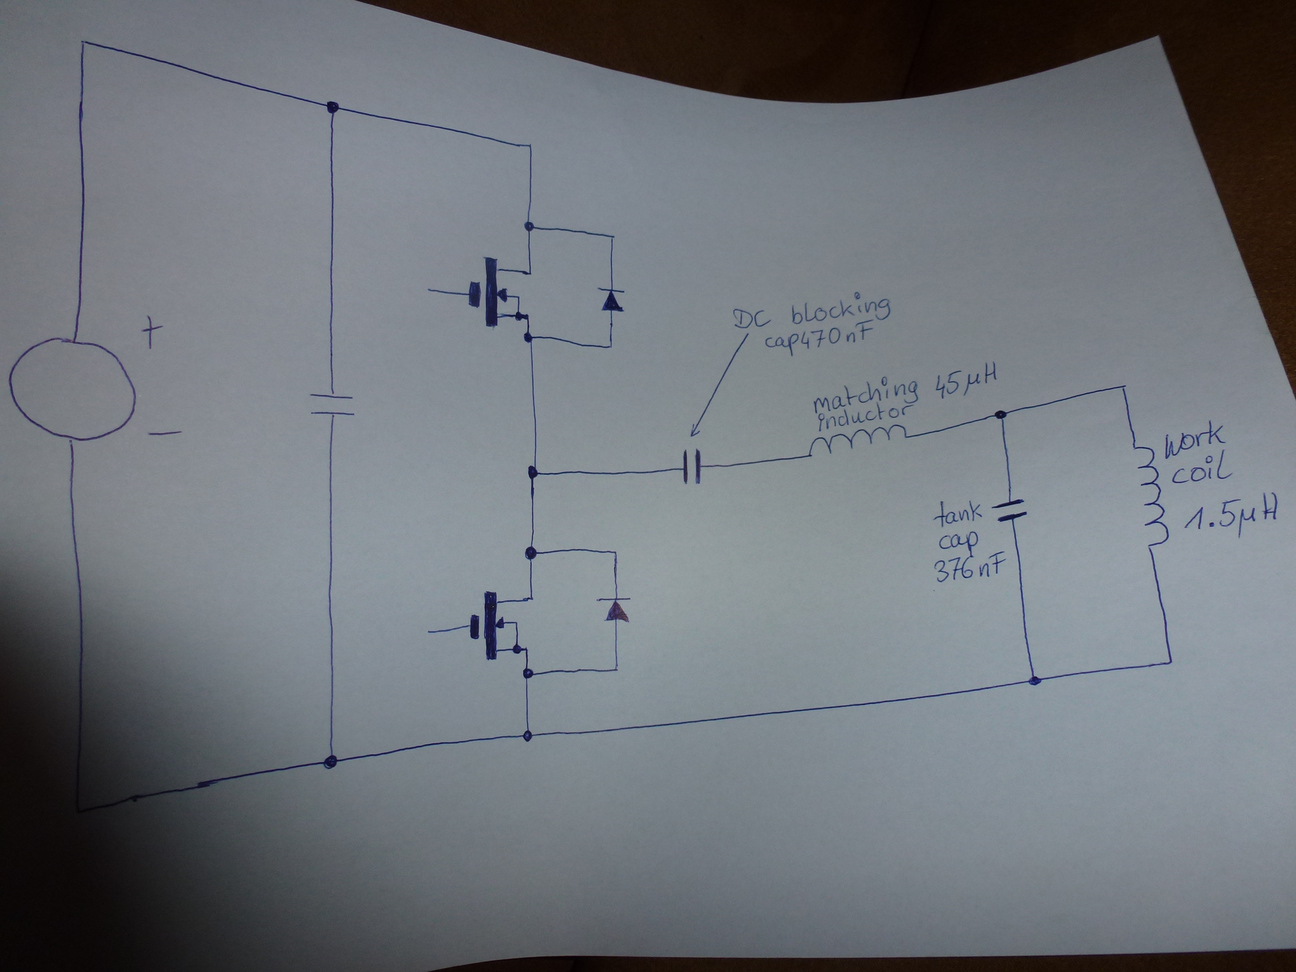capacitor.unpolarized: (304, 387, 358, 423), (989, 495, 1030, 525), (677, 446, 706, 487)
diode: (595, 592, 635, 629), (593, 284, 628, 317)
inductor: (1130, 443, 1172, 548), (806, 422, 910, 460)
junction: (1159, 649, 1181, 671), (323, 97, 342, 117), (524, 461, 542, 482), (321, 752, 341, 771), (522, 542, 540, 562), (1026, 672, 1043, 688), (991, 407, 1009, 423), (1114, 380, 1131, 395), (520, 727, 535, 744), (521, 218, 537, 234), (519, 666, 535, 681), (76, 33, 90, 49), (72, 801, 86, 818), (608, 545, 622, 558), (609, 663, 622, 676), (524, 139, 536, 152), (522, 331, 535, 344), (603, 340, 615, 352), (606, 231, 618, 243)
terminal: (421, 626, 436, 636), (421, 285, 435, 295)
text: (763, 317, 876, 359), (812, 374, 920, 415), (1183, 493, 1280, 536), (790, 289, 892, 325), (817, 400, 915, 433), (933, 359, 1000, 402), (1161, 421, 1224, 465), (934, 549, 1008, 582), (1169, 446, 1228, 484), (934, 498, 984, 527), (937, 530, 982, 555), (729, 306, 774, 331)
transistor: (465, 252, 537, 330), (467, 588, 539, 662)
voltage.dc: (8, 330, 139, 453)
